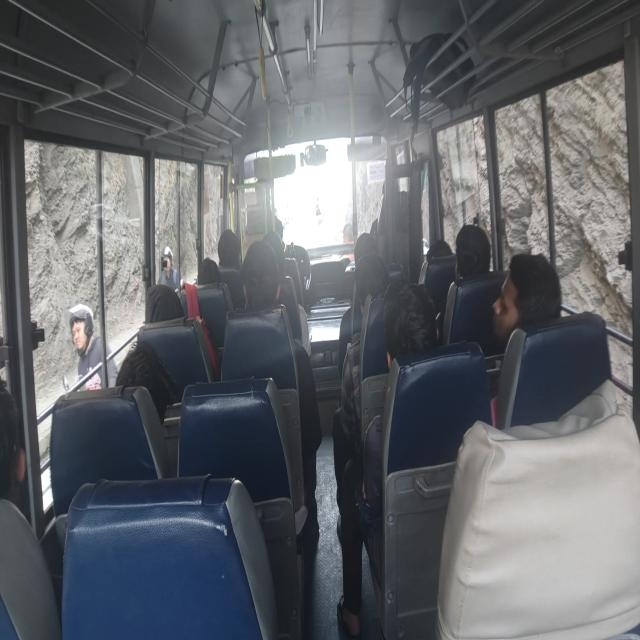person: (336, 278, 439, 637), (239, 239, 322, 545), (491, 251, 561, 348), (338, 252, 389, 376), (115, 339, 179, 425), (383, 278, 438, 370), (68, 303, 118, 391), (0, 380, 27, 508), (454, 223, 492, 281), (144, 283, 185, 322), (217, 228, 241, 271), (157, 245, 178, 293), (197, 257, 221, 285)
